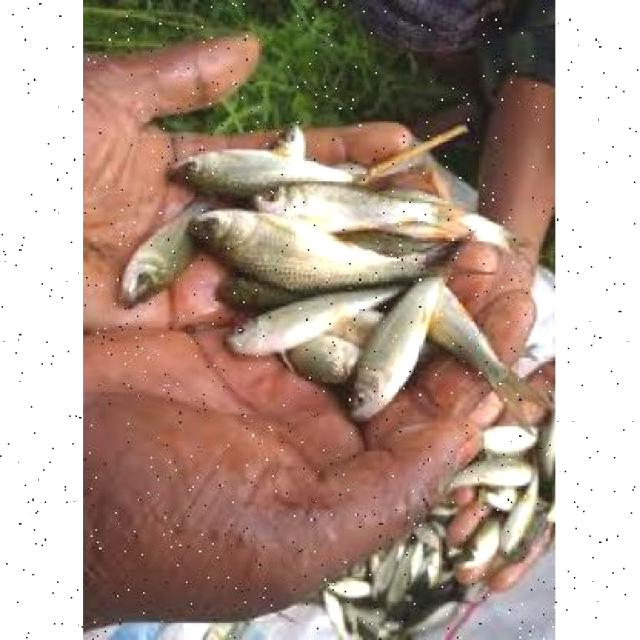ikan-mas: (198, 196, 464, 284), (346, 266, 452, 420), (226, 279, 411, 358), (172, 136, 378, 196), (123, 198, 219, 307)
